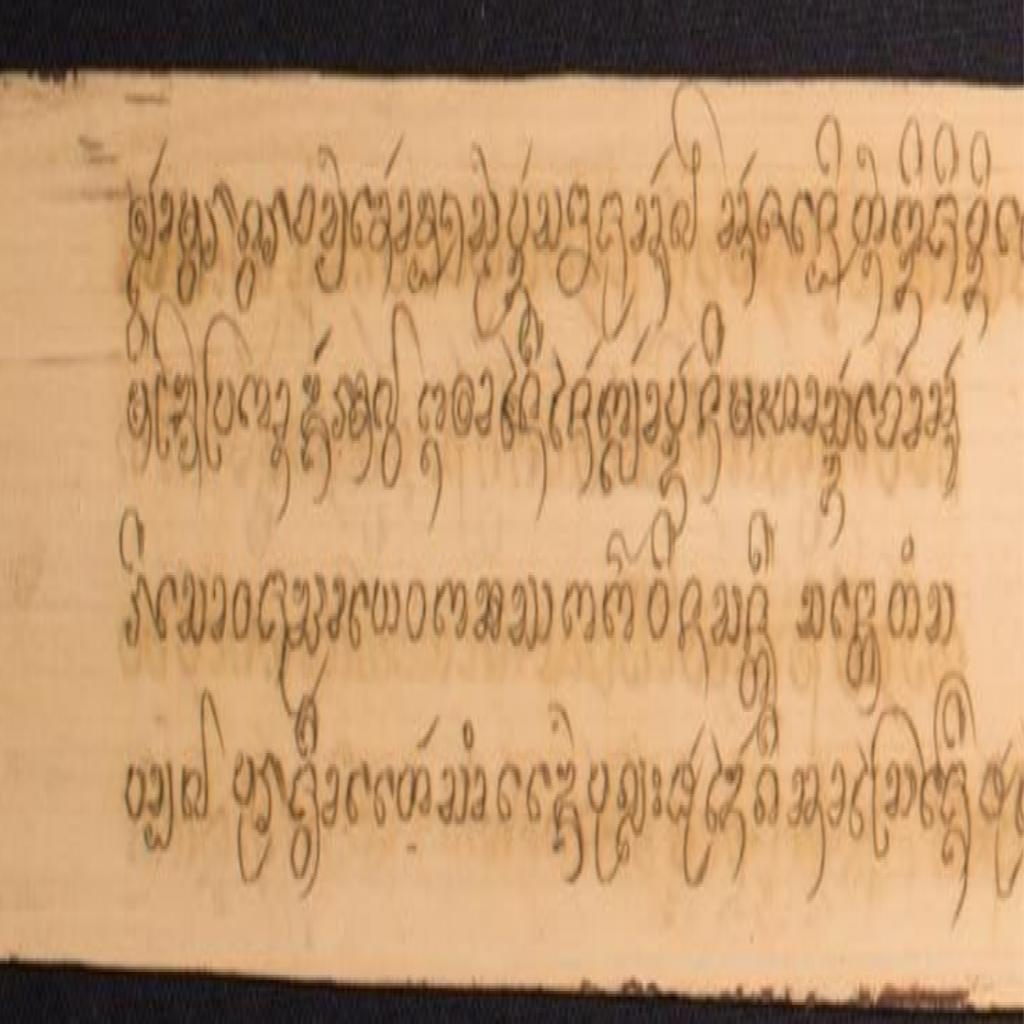LN028: (431, 571, 471, 649)
